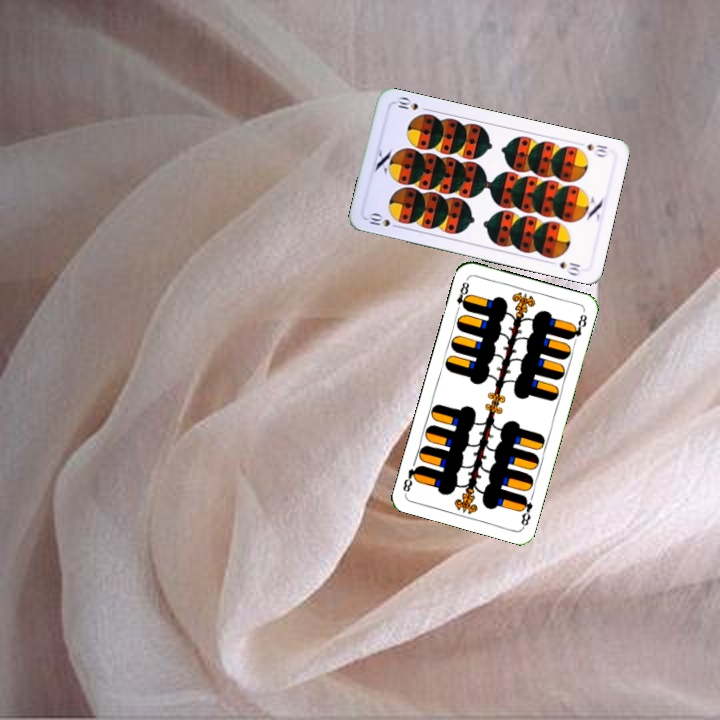E8: (452, 275, 472, 315), (516, 491, 535, 529)
S10: (365, 210, 403, 231), (583, 140, 610, 160)
